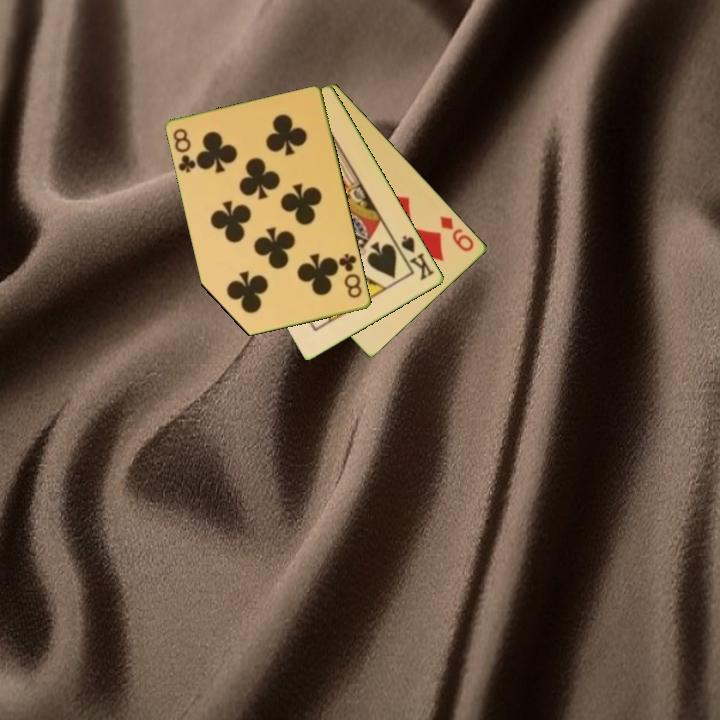8c: (335, 250, 365, 301), (170, 125, 199, 176)
9d: (437, 212, 477, 254)
Ks: (393, 232, 438, 283)
